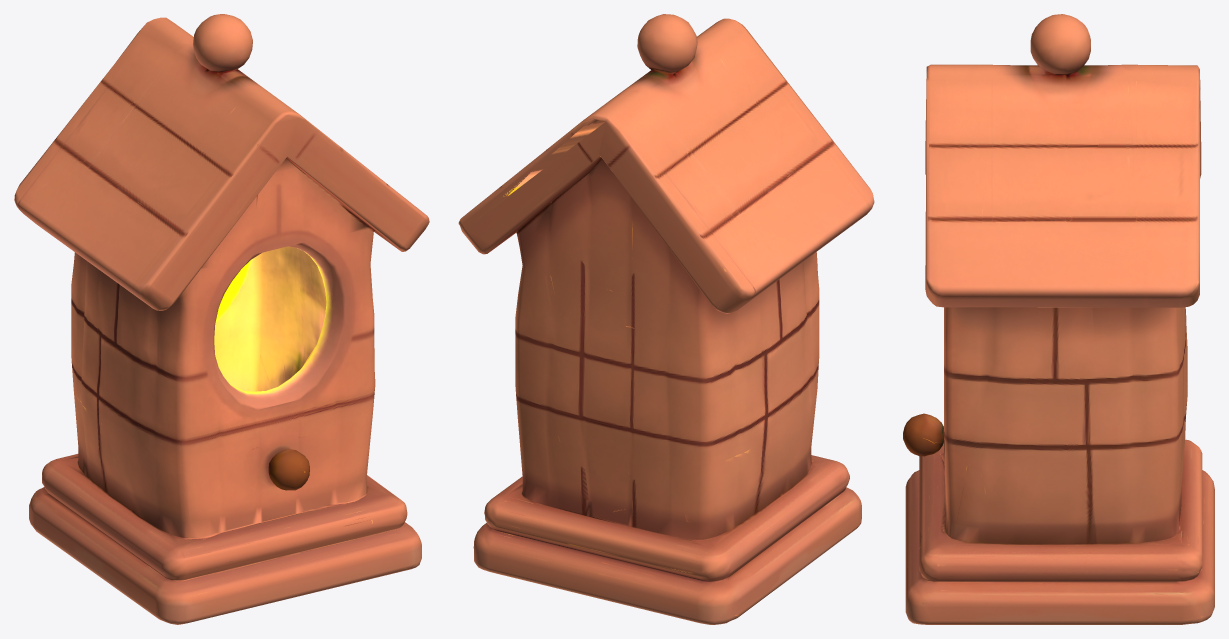
File: birdhouse_lantern.glb
The picture shows the model from 3 angles, left to right: view 1: azimuth 30°, elevation 25°; view 2: azimuth 150°, elevation 25°; view 3: azimuth 270°, elevation 25°; orthographic projection. The views are drawn at different scales.
Size of the model in its own units: 1.1 by 1.91 by 0.9863.
Materials: 1 (1 with a texture image).
